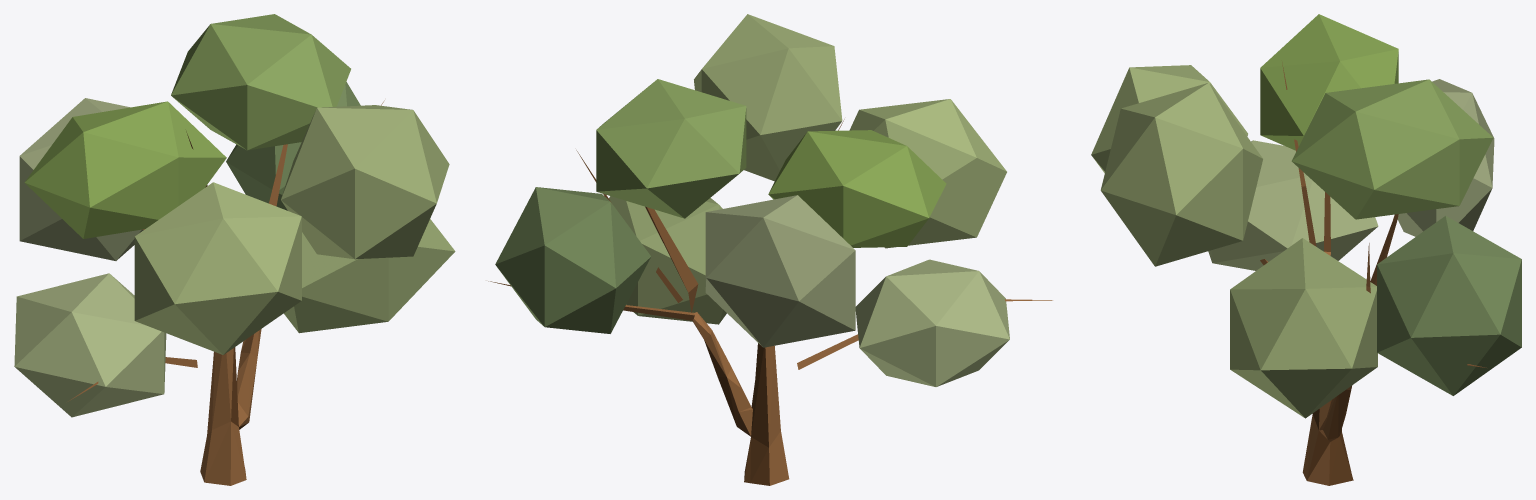
The model's file is laurel_bloom_far.glb.
3 views of the same model, side by side, from view 1: azimuth 30°, elevation 25°; view 2: azimuth 150°, elevation 25°; view 3: azimuth 270°, elevation 25° (orthographic). The views are drawn at different scales.
Parts seen in each view (by area): view 1: laurel_bloom_far; view 2: laurel_bloom_far; view 3: laurel_bloom_far.
Boxes of the visible parts, x1,y1,x2,y2 form: laurel_bloom_far: (14, 14, 455, 485); laurel_bloom_far: (488, 14, 1052, 485); laurel_bloom_far: (1091, 14, 1521, 485).
Size of the model in its own units: 7.55 by 6.43 by 6.07.
